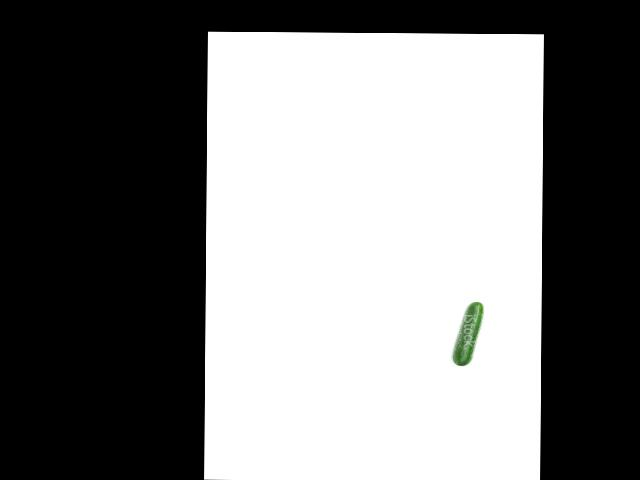cucumber: (452, 301, 483, 366)
